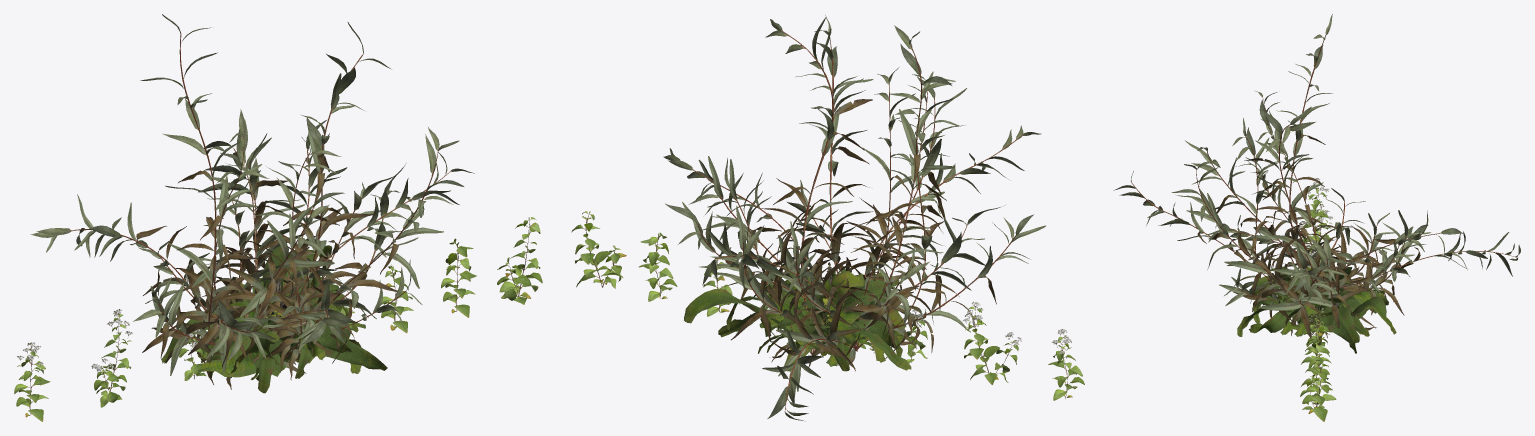
Rendered from props_soft.glb.
3 views of the same model, side by side, from view 1: azimuth 30°, elevation 25°; view 2: azimuth 150°, elevation 25°; view 3: azimuth 270°, elevation 25° (orthographic). The views are drawn at different scales.
Visible parts, largest first — view 1: shrub_02_0, shrub_02_2, shrub_02_1, shrub_01, shrub_02_3, fern_02_1, fern_02_2; view 2: shrub_02_2, shrub_02_0, shrub_02_1, shrub_01, shrub_02_3, fern_02_1, fern_02_2; view 3: shrub_02_0, shrub_02_2, shrub_02_1, shrub_02_3, shrub_01, fern_02_1, fern_02_2, fern_02_0.
Part boxes in pixels (box(x1,y1,x2,y2)): shrub_02_0: box(140, 14, 463, 389); shrub_02_2: box(30, 109, 474, 384); shrub_02_1: box(168, 22, 396, 373); shrub_01: box(14, 217, 542, 421); shrub_02_3: box(138, 119, 422, 380); fern_02_1: box(161, 245, 387, 393); fern_02_2: box(197, 279, 361, 380); shrub_02_2: box(663, 74, 1045, 421); shrub_02_0: box(688, 15, 966, 345); shrub_02_1: box(705, 17, 1004, 365); shrub_01: box(571, 211, 1084, 400); shrub_02_3: box(665, 67, 929, 349); fern_02_1: box(684, 265, 912, 371); fern_02_2: box(718, 268, 922, 371); shrub_02_0: box(1171, 14, 1462, 338); shrub_02_2: box(1113, 90, 1520, 303); shrub_02_1: box(1203, 106, 1430, 337); shrub_02_3: box(1219, 118, 1414, 321); shrub_01: box(1299, 178, 1336, 421); fern_02_1: box(1237, 267, 1396, 345); fern_02_2: box(1249, 266, 1384, 353); fern_02_0: box(1262, 294, 1369, 336).
Bounding box in the file's own units: 2.59 × 1.69 × 2.29.
Materials: 9 (9 with a texture image).
